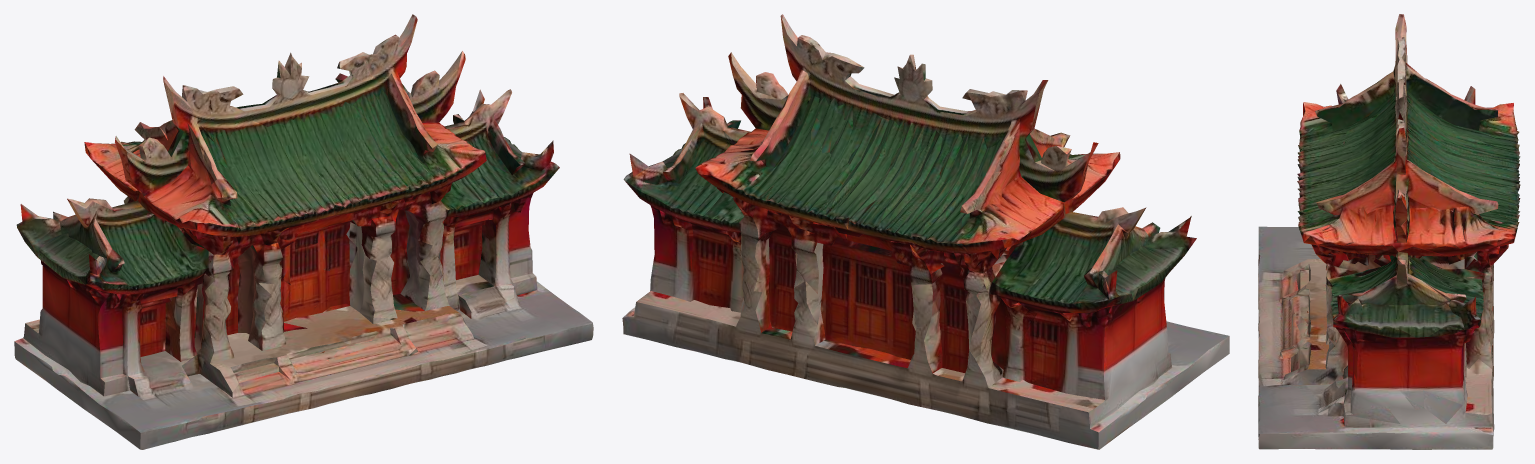
Rendered from xingtian-temple.glb.
3 renders of one model, left to right at view 1: azimuth 30°, elevation 25°; view 2: azimuth 150°, elevation 25°; view 3: azimuth 270°, elevation 25°, orthographic. The views are drawn at different scales.
Visible parts, largest first — view 1: logan-textured.obj; view 2: logan-textured.obj; view 3: logan-textured.obj.
Part boxes in pixels (<box>): logan-textured.obj: <box>14,14,593,449</box>; logan-textured.obj: <box>622,14,1229,449</box>; logan-textured.obj: <box>1258,14,1520,449</box>.
Bounding box in the file's own units: 1 × 0.5999 × 0.5173.
Materials: 1 (1 with a texture image).
